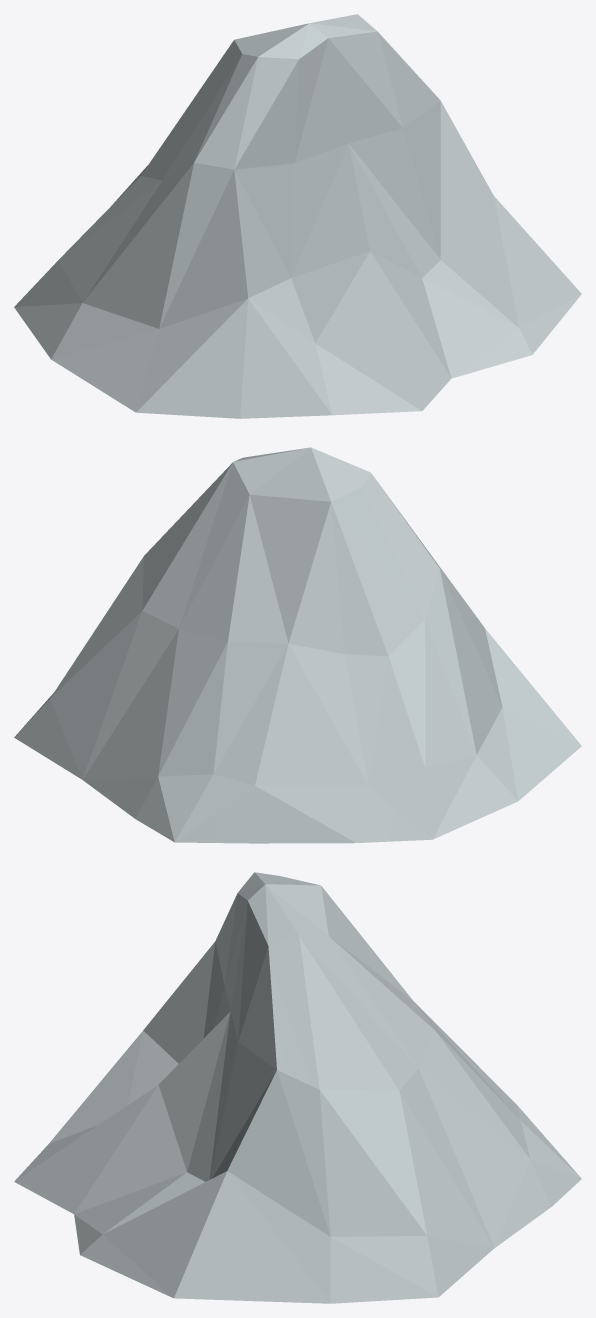
The model's file is avalanche.fbx.
3 renders of one model, top to bottom at view 1: azimuth 30°, elevation 25°; view 2: azimuth 150°, elevation 25°; view 3: azimuth 270°, elevation 25°, orthographic. The views are drawn at different scales.
Visible parts, largest first — view 1: avalanche 1; view 2: avalanche 1; view 3: avalanche 1.
Part boxes in pixels (x1,y1,x2,y2): avalanche 1: [14, 14, 581, 418]; avalanche 1: [14, 447, 581, 843]; avalanche 1: [14, 872, 581, 1303].
Bounding box in the file's own units: 2.66 × 1.6 × 2.7.
